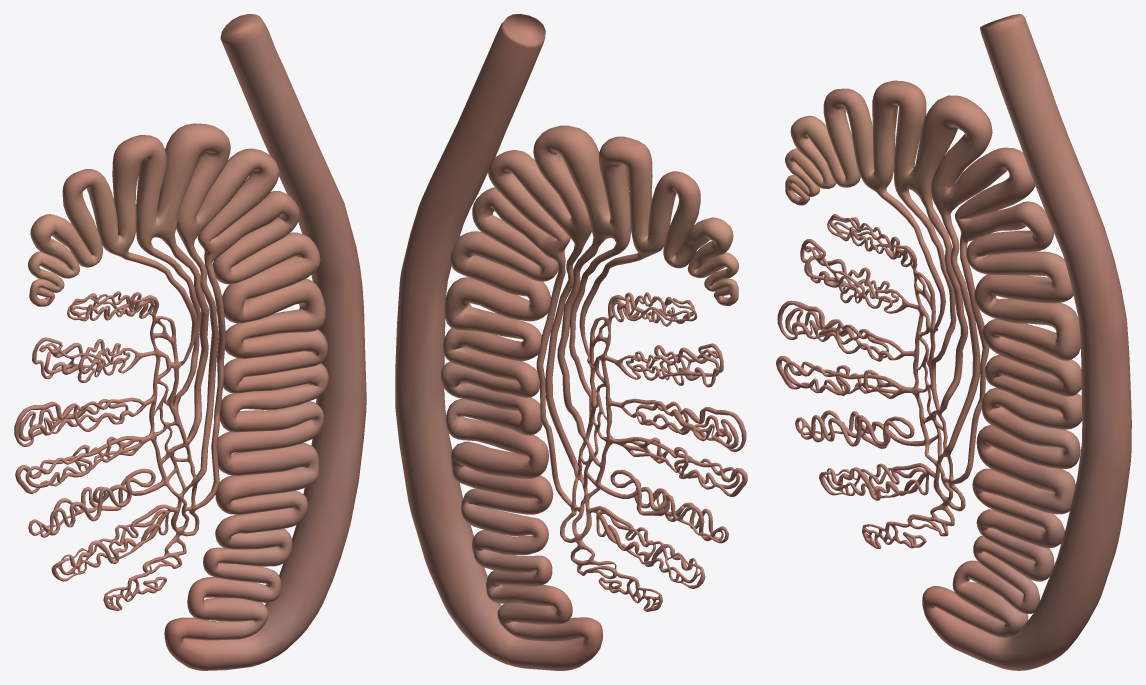
3 renders of one model, left to right at view 1: azimuth 30°, elevation 25°; view 2: azimuth 150°, elevation 25°; view 3: azimuth 330°, elevation 25°, orthographic.
Visible parts, largest first — view 1: LOD 3_6378092431652634060_a1e5460f9667e624384844bb77a670e0; view 2: LOD 3_6378092431652634060_a1e5460f9667e624384844bb77a670e0; view 3: LOD 3_6378092431652634060_a1e5460f9667e624384844bb77a670e0.
Boxes of the visible parts, left/top/right/bottom form: LOD 3_6378092431652634060_a1e5460f9667e624384844bb77a670e0: left=14, top=14, right=366, bottom=670; LOD 3_6378092431652634060_a1e5460f9667e624384844bb77a670e0: left=395, top=14, right=747, bottom=670; LOD 3_6378092431652634060_a1e5460f9667e624384844bb77a670e0: left=776, top=14, right=1131, bottom=670.
Size of the model in its own units: 6.96 by 12.33 by 0.9784.
